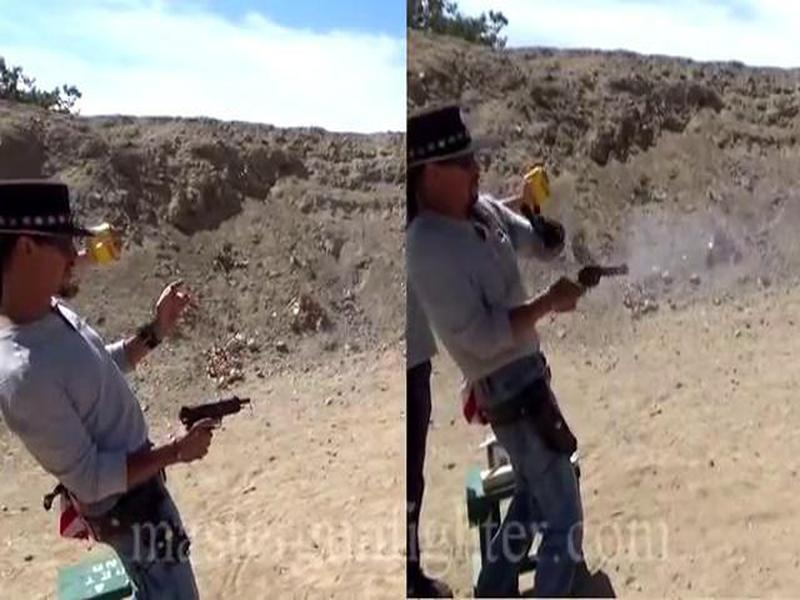Pistola: (167, 386, 262, 454)
Revolver: (530, 248, 651, 319)
